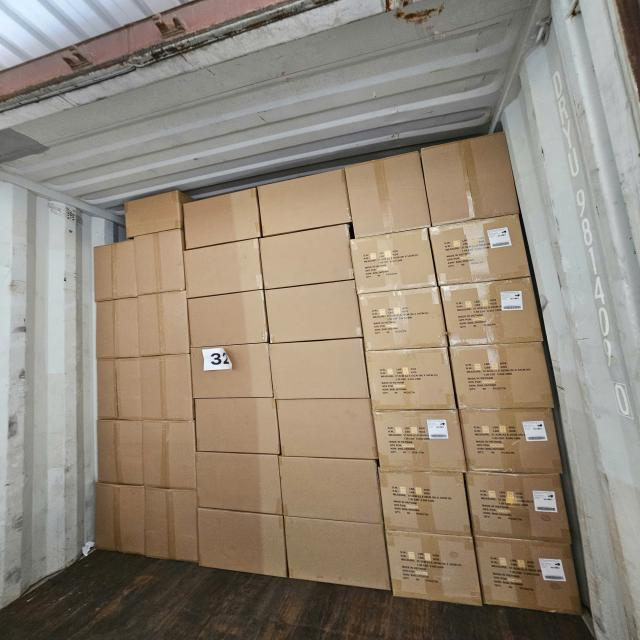Carton: (477, 535, 583, 616), (424, 133, 516, 222), (287, 517, 393, 591), (465, 470, 572, 540), (386, 530, 484, 606), (451, 341, 554, 408), (458, 408, 562, 473), (346, 152, 426, 236), (278, 456, 381, 521), (432, 215, 530, 281), (442, 279, 543, 343), (197, 509, 287, 580), (276, 397, 375, 458), (270, 337, 368, 398), (376, 407, 469, 471), (379, 471, 470, 536), (266, 286, 362, 346), (258, 172, 348, 236), (369, 345, 458, 409), (260, 230, 352, 290), (361, 291, 449, 353), (194, 455, 281, 517), (350, 233, 433, 293), (194, 397, 279, 454), (192, 344, 274, 398), (143, 487, 199, 566), (183, 189, 260, 246), (187, 294, 266, 348), (183, 242, 261, 296), (96, 482, 142, 562), (142, 420, 196, 488), (140, 294, 190, 358), (144, 356, 194, 419), (94, 357, 142, 422), (95, 419, 142, 485), (136, 233, 183, 297), (92, 238, 138, 302), (93, 302, 140, 361), (126, 192, 183, 237)
